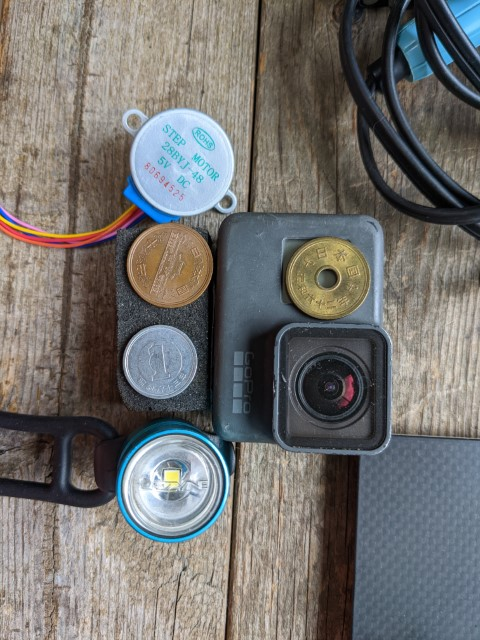10yen: (126, 223, 213, 308)
1yen: (122, 325, 198, 400)
5yen: (285, 237, 371, 320)
